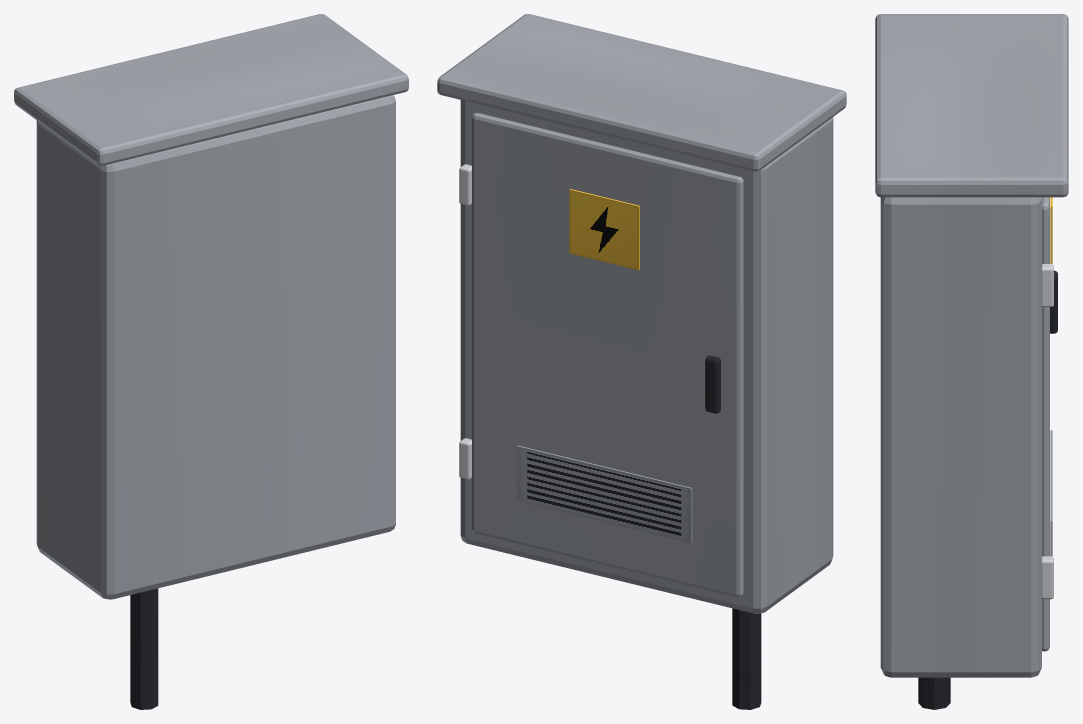
File: SW_ElectricBox.glb
3 renders of one model, left to right at view 1: azimuth 30°, elevation 25°; view 2: azimuth 150°, elevation 25°; view 3: azimuth 270°, elevation 25°, orthographic. The views are drawn at different scales.
Parts seen in each view (by area): view 1: Box; view 2: Box; view 3: Box.
Part boxes in pixels (x1,y1,x2,y2): Box: (14, 14, 408, 709); Box: (437, 14, 846, 709); Box: (875, 14, 1068, 709).
Size of the model in its own units: 0.74 by 1.34 by 0.36.
Materials: 2 (1 with a texture image).
